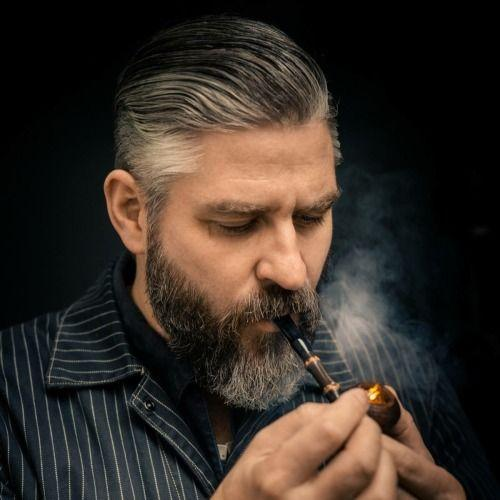trubka: (271, 313, 402, 435)
